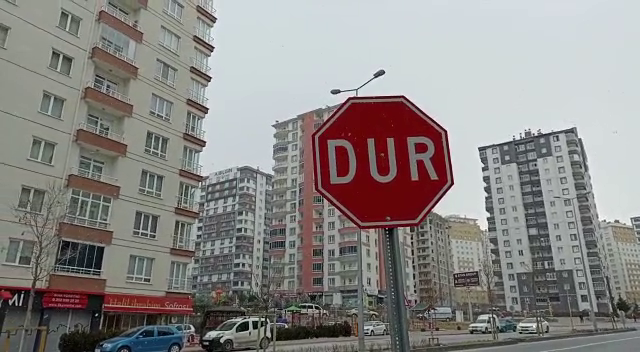stop: (309, 92, 458, 233)
